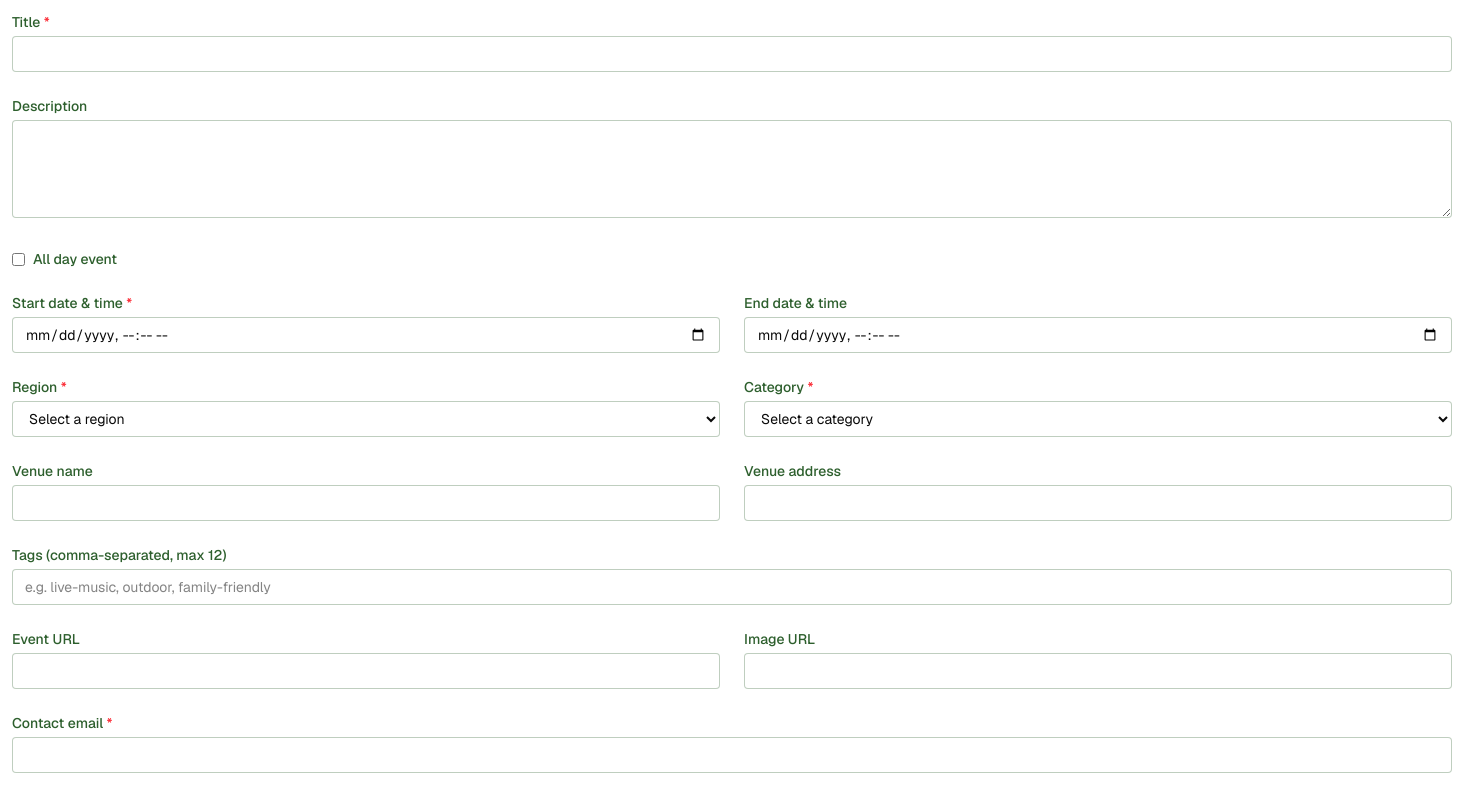
it: SubmissionForm › "All day" checkbox hides the end time field
Expected: the field labelled "End date & time" is shown, [744, 317, 1452, 353]
Step 1. Click the checkbox labelled "All day event" → click(18, 259), box [12, 252, 25, 266]
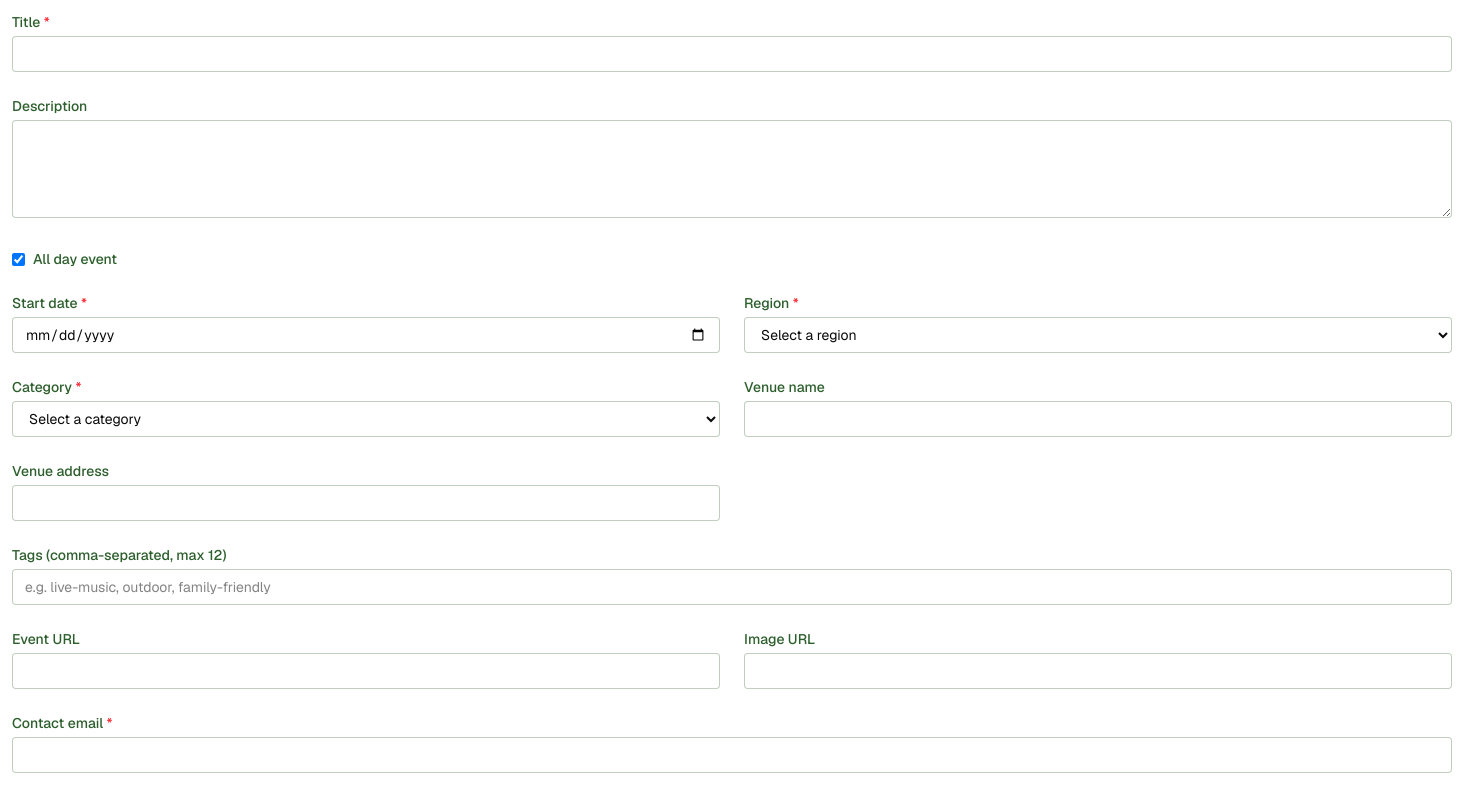
Expected: the label labelled "End date & time" is gone
